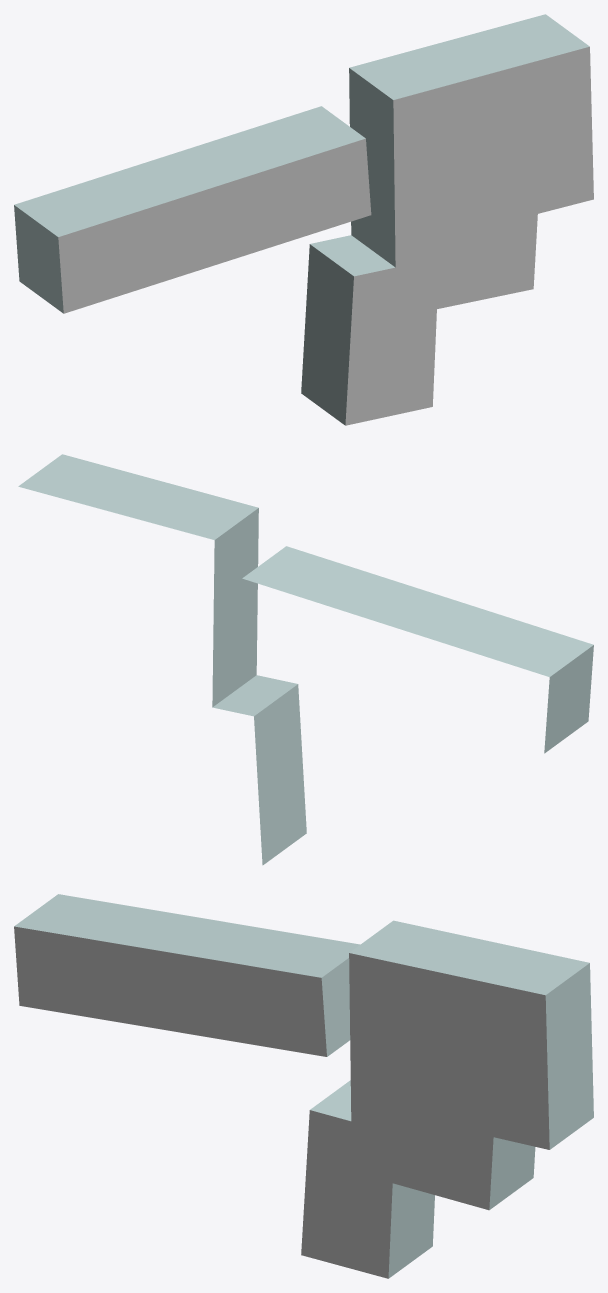
The picture shows the model from 3 angles, top to bottom: view 1: azimuth 30°, elevation 25°; view 2: azimuth 150°, elevation 25°; view 3: azimuth 330°, elevation 25°; orthographic projection.
Visible parts, largest first — view 1: 0_0_2_3_0_1_1_1_0; view 2: 0_0_2_3_0_1_1_1_0; view 3: 0_0_2_3_0_1_1_1_0.
Boxes of the visible parts, box(x1,y1,x2,y2) form: 0_0_2_3_0_1_1_1_0: box(14, 14, 593, 425); 0_0_2_3_0_1_1_1_0: box(18, 454, 593, 865); 0_0_2_3_0_1_1_1_0: box(14, 894, 593, 1278).
Size of the model in its own units: 20.95 by 12.03 by 3.
